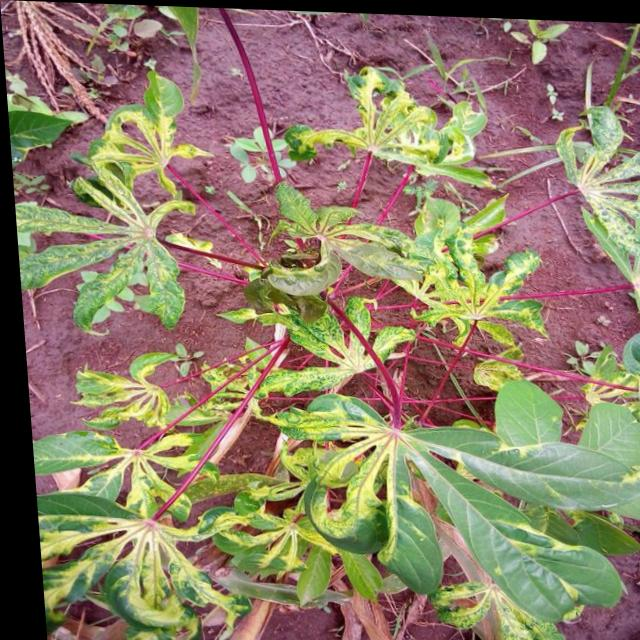Mosaico: (273, 368, 640, 594), (296, 58, 532, 179), (34, 496, 248, 626), (380, 224, 579, 356), (38, 170, 186, 327), (90, 82, 249, 222), (267, 178, 430, 313), (233, 278, 417, 385), (41, 408, 220, 514), (563, 92, 640, 293), (53, 345, 192, 428)
